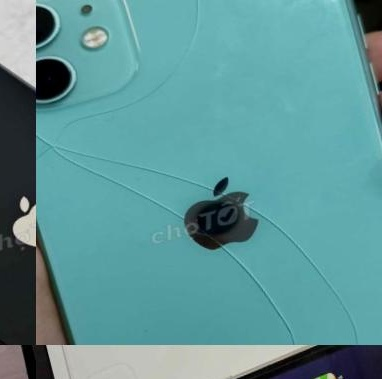physical_damage: (36, 0, 382, 345)
